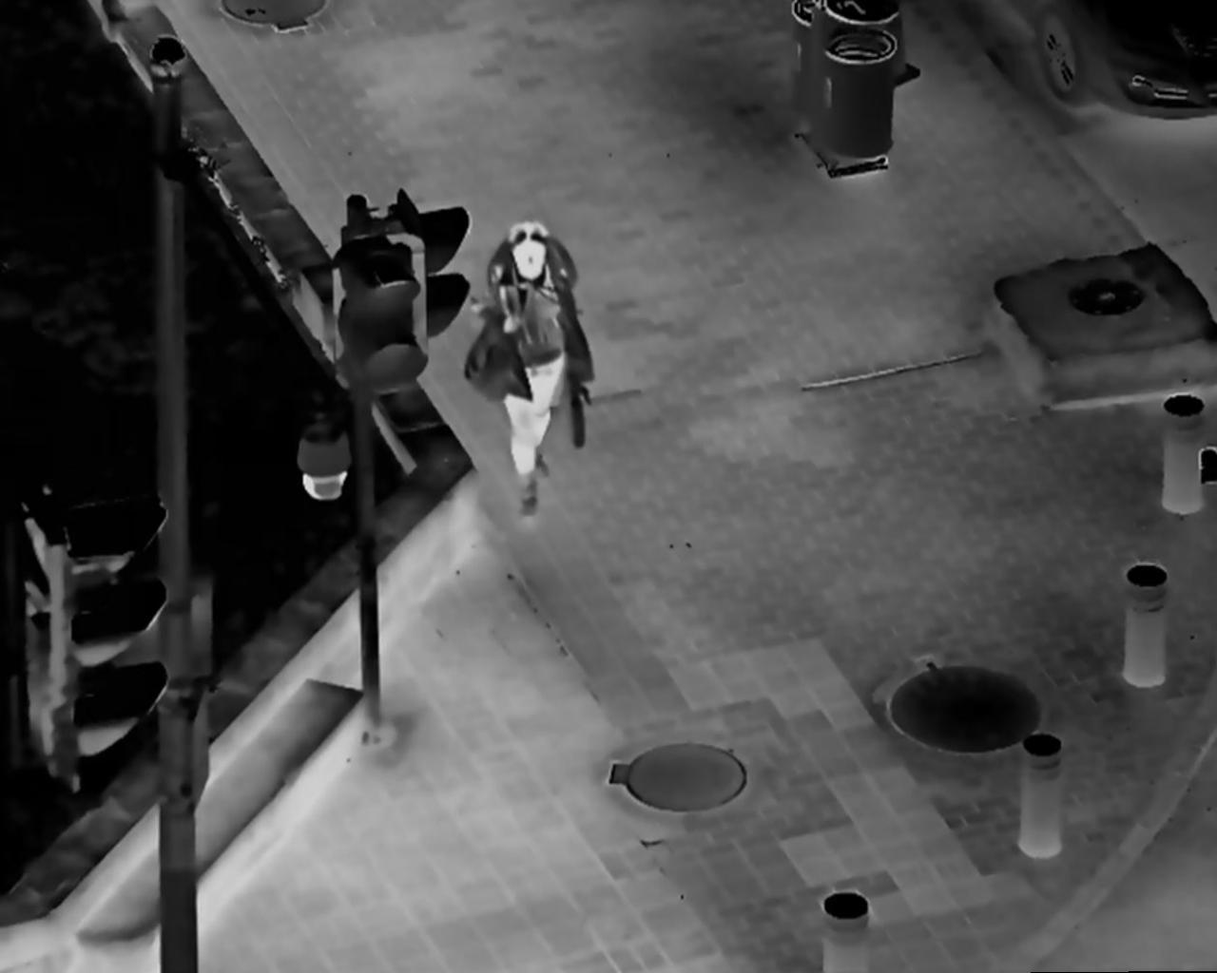person: (463, 190, 599, 537)
